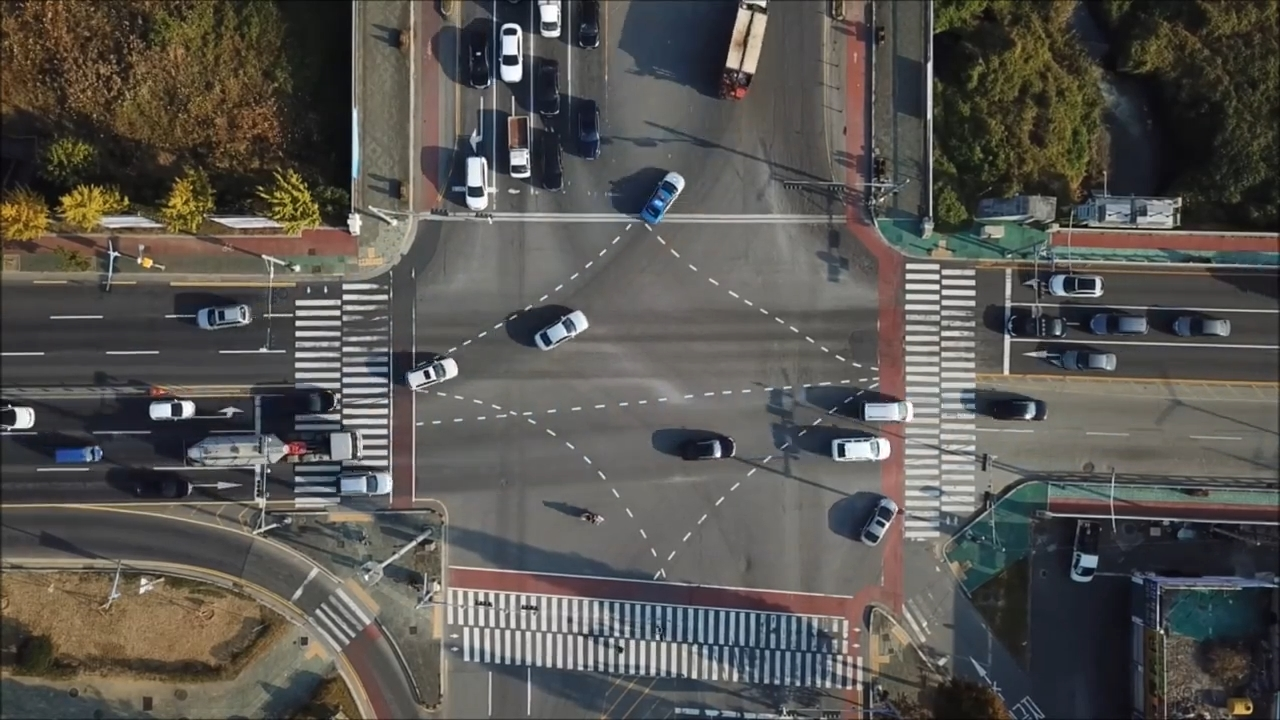car: (175, 432, 362, 468), (716, 1, 772, 103), (641, 169, 690, 227), (534, 309, 589, 353), (856, 497, 899, 551), (401, 356, 459, 390), (1067, 521, 1097, 586), (460, 156, 494, 209), (1043, 271, 1105, 299), (492, 21, 519, 85), (334, 470, 393, 498), (192, 303, 255, 329), (539, 129, 564, 194), (1008, 313, 1072, 337), (505, 117, 529, 179), (683, 436, 738, 463), (537, 58, 562, 117), (1060, 348, 1119, 373), (1091, 315, 1152, 339), (465, 31, 489, 91), (831, 438, 890, 461), (855, 401, 916, 423), (133, 475, 191, 498), (580, 102, 602, 162), (282, 389, 339, 412), (1169, 318, 1234, 338), (145, 398, 197, 422), (992, 397, 1045, 420), (52, 444, 107, 464), (580, 1, 602, 50), (533, 1, 559, 36), (1, 406, 37, 429)
